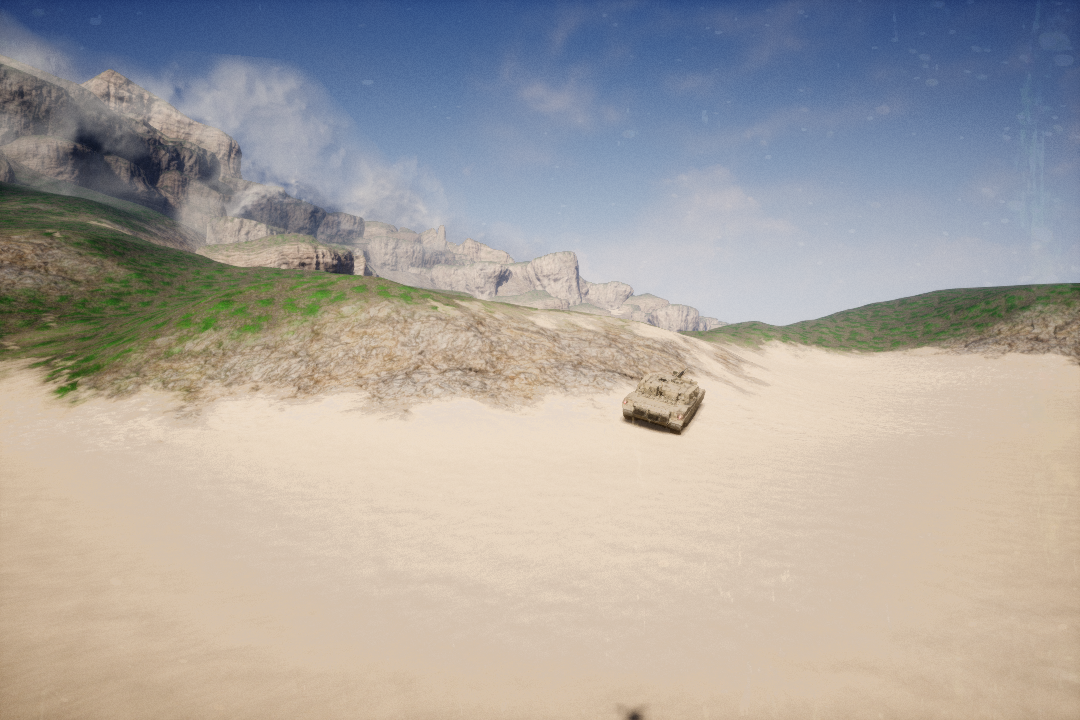tank: (612, 358, 713, 447)
